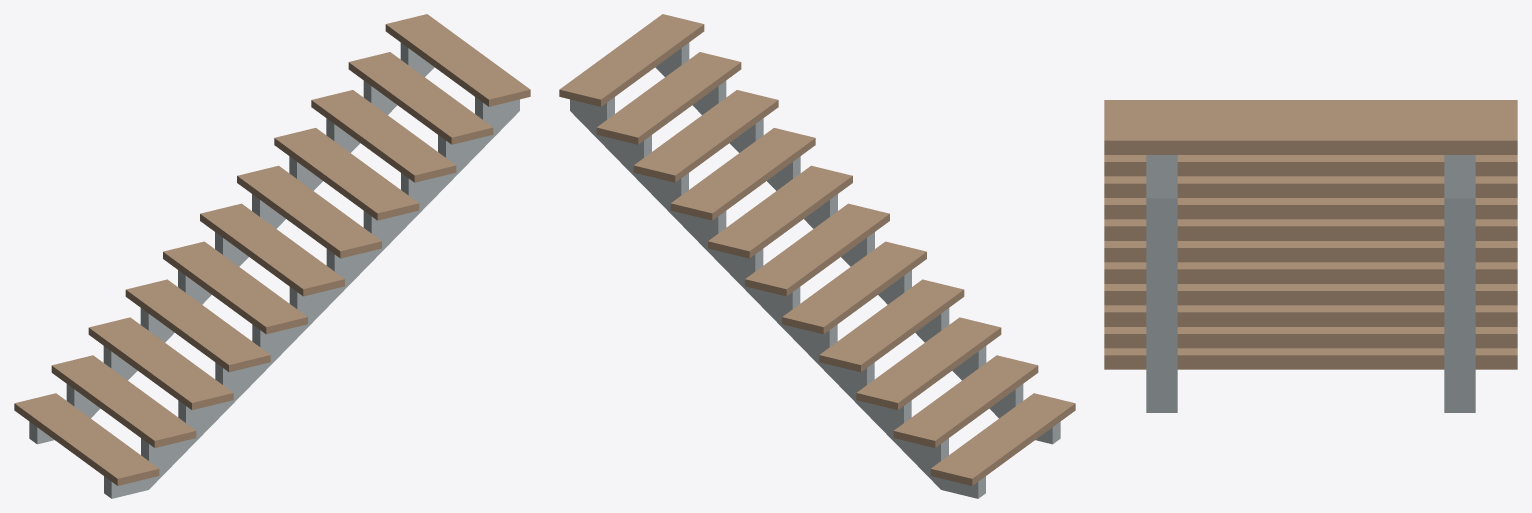
The model's file is stairsOpen.glb.
The picture shows the model from 3 angles, left to right: view 1: azimuth 30°, elevation 25°; view 2: azimuth 150°, elevation 25°; view 3: azimuth 270°, elevation 25°; orthographic projection. The views are drawn at different scales.
Visible parts, largest first — view 1: stairsOpen; view 2: stairsOpen; view 3: stairsOpen.
Boxes of the visible parts, left/top/right/bottom form: stairsOpen: left=14, top=14, right=530, bottom=498; stairsOpen: left=559, top=14, right=1075, bottom=498; stairsOpen: left=1104, top=100, right=1517, bottom=412.
Bounding box in the file's own units: 1.82 × 1.34 × 0.79.
